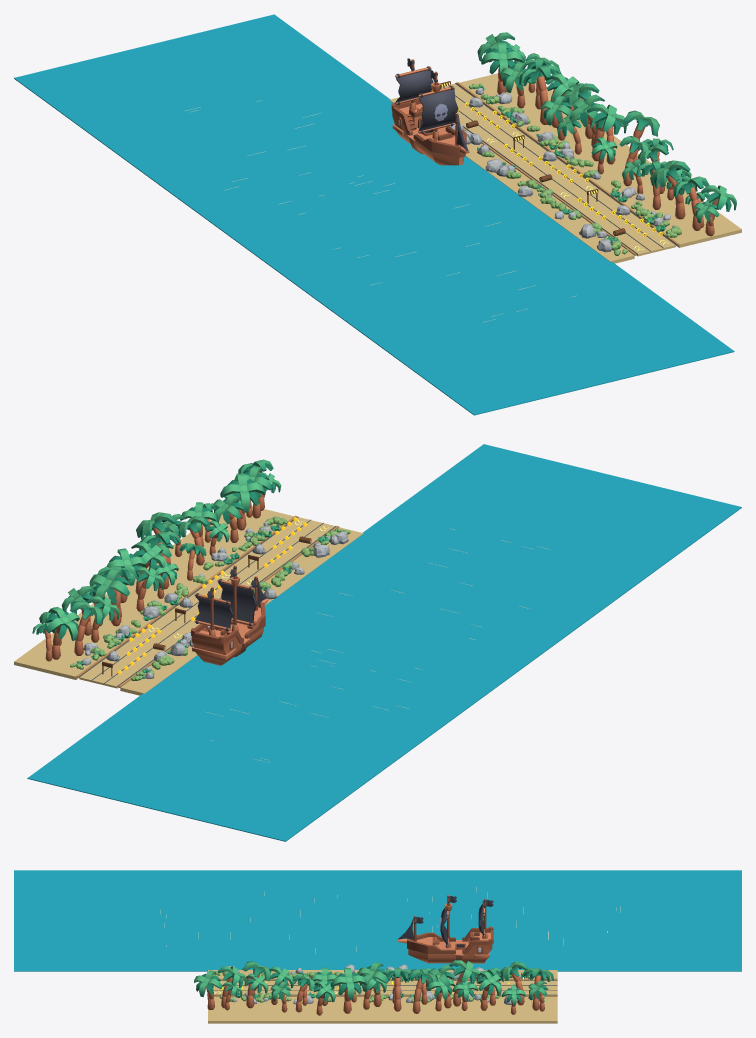
File: coast_72m.glb
The picture shows the model from 3 angles, top to bottom: view 1: azimuth 30°, elevation 25°; view 2: azimuth 150°, elevation 25°; view 3: azimuth 270°, elevation 25°; orthographic projection. The views are drawn at different scales.
Visible parts, largest first — view 1: Turquoise_ocean, Pirate_ship_COMPLETE, Running_surface.003, Running_surface.004, Terrain_bank.007, Terrain_bank.009, Running_surface.005, Terrain_bank.011, Terrain_bank.006, Terrain_bank.008, Asset_palm-detailed-bend.028, Asset_palm-detailed-bend.007 (+4 smaller); view 2: Turquoise_ocean, Pirate_ship_COMPLETE, Terrain_bank.011, Running_surface.005, Running_surface.003, Terrain_bank.009, Terrain_bank.007, Running_surface.004, Terrain_bank.010, Asset_palm-detailed-bend.026, Asset_palm-detailed-bend.007, Terrain_bank.006 (+5 smaller); view 3: Turquoise_ocean, Pirate_ship_COMPLETE, Terrain_bank.011, Terrain_bank.009, Terrain_bank.007, Asset_palm-detailed-bend.011, Asset_palm-detailed-bend.017, Running_surface.005, Asset_palm-detailed-bend.026, Asset_palm-detailed-bend.022, Asset_palm-detailed-bend, Running_surface.004 (+19 smaller).
Part boxes in pixels (bbox=[...]): Turquoise_ocean: bbox=[14, 14, 734, 415]; Pirate_ship_COMPLETE: bbox=[391, 58, 469, 165]; Running_surface.003: bbox=[564, 191, 675, 256]; Running_surface.004: bbox=[491, 137, 601, 200]; Terrain_bank.007: bbox=[607, 180, 741, 247]; Terrain_bank.009: bbox=[533, 124, 651, 190]; Running_surface.005: bbox=[441, 83, 528, 146]; Terrain_bank.011: bbox=[459, 73, 582, 136]; Terrain_bank.006: bbox=[537, 201, 634, 263]; Terrain_bank.008: bbox=[465, 150, 560, 207]; Asset_palm-detailed-bend.028: bbox=[481, 42, 523, 94]; Asset_palm-detailed-bend.007: bbox=[650, 160, 690, 219]; Turquoise_ocean: bbox=[27, 444, 741, 841]; Pirate_ship_COMPLETE: bbox=[191, 565, 268, 665]; Terrain_bank.011: bbox=[14, 612, 147, 679]; Running_surface.005: bbox=[79, 624, 187, 688]; Running_surface.003: bbox=[226, 517, 334, 579]; Terrain_bank.009: bbox=[90, 557, 220, 622]; Terrain_bank.007: bbox=[169, 506, 293, 569]; Running_surface.004: bbox=[153, 570, 262, 632]; Terrain_bank.010: bbox=[120, 643, 197, 695]; Asset_palm-detailed-bend.026: bbox=[90, 568, 129, 626]; Asset_palm-detailed-bend.007: bbox=[220, 473, 265, 529]; Terrain_bank.006: bbox=[266, 527, 363, 586]; Turquoise_ocean: bbox=[14, 870, 741, 971]; Pirate_ship_COMPLETE: bbox=[398, 895, 493, 963]; Terrain_bank.011: bbox=[441, 996, 557, 1023]; Terrain_bank.009: bbox=[324, 996, 440, 1023]; Terrain_bank.007: bbox=[208, 996, 324, 1023]; Asset_palm-detailed-bend.011: bbox=[330, 967, 366, 1013]; Asset_palm-detailed-bend.017: bbox=[357, 962, 388, 1006]; Running_surface.005: bbox=[442, 980, 557, 994]; Asset_palm-detailed-bend.026: bbox=[449, 960, 481, 1006]; Asset_palm-detailed-bend.022: bbox=[476, 971, 502, 1010]; Asset_palm-detailed-bend: bbox=[194, 970, 222, 1009]; Running_surface.004: bbox=[329, 980, 436, 994].
Size of the model in its own units: 74.71 by 15.65 by 150.
13 materials, 4 textured.
